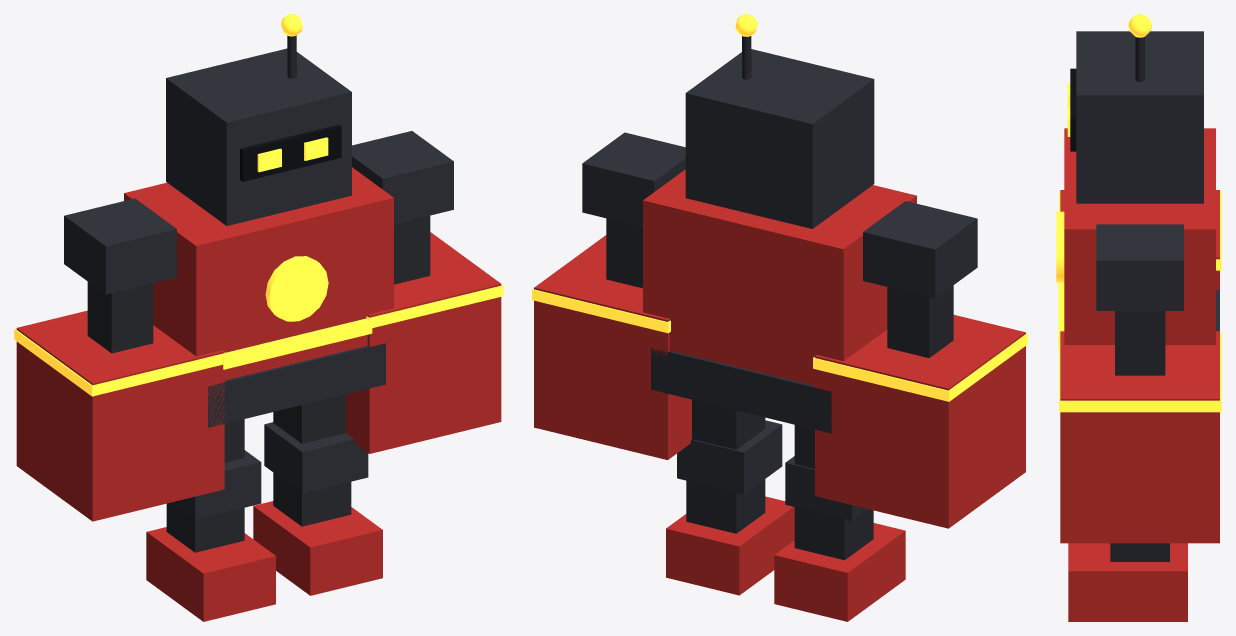
Rendered from robot_tank_red.glb.
3 renders of one model, left to right at view 1: azimuth 30°, elevation 25°; view 2: azimuth 150°, elevation 25°; view 3: azimuth 270°, elevation 25°, orthographic. The views are drawn at different scales.
Visible parts, largest first — view 1: arm_R, torso, arm_L, head, leg_L, leg_R; view 2: arm_R, torso, arm_L, head, leg_L, leg_R; view 3: arm_L, head, torso, leg_L, arm_R.
Boxes of the visible parts, box(x1,y1,x2,y2) form: arm_R: box(14, 198, 226, 521); torso: box(124, 167, 393, 427); arm_L: box(345, 131, 503, 453); head: box(166, 14, 351, 225); leg_L: box(253, 394, 382, 595); leg_R: box(146, 419, 275, 621); arm_R: box(813, 201, 1027, 528); torso: box(643, 169, 916, 433); arm_L: box(532, 132, 691, 459); head: box(685, 14, 874, 228); leg_L: box(666, 399, 794, 595); leg_R: box(774, 425, 905, 621); arm_L: box(1059, 224, 1221, 543); head: box(1067, 14, 1203, 203); torso: box(1056, 128, 1219, 350); leg_L: box(1068, 543, 1187, 621); arm_R: box(1059, 190, 1221, 289).
Bounding box in the file's own units: 1.56 × 2 × 0.5175.
